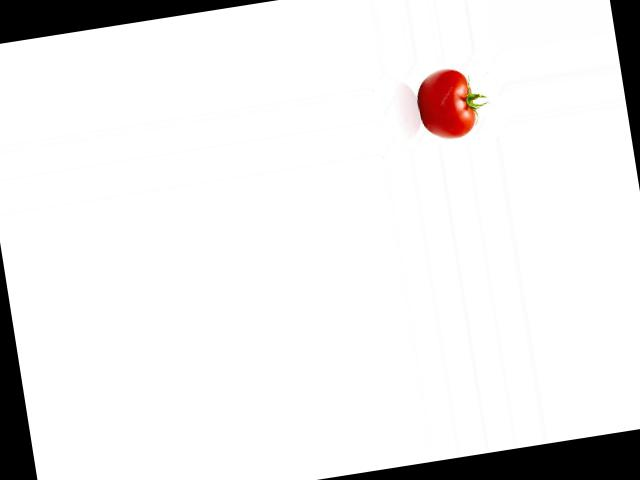tomato: (413, 64, 478, 143)
